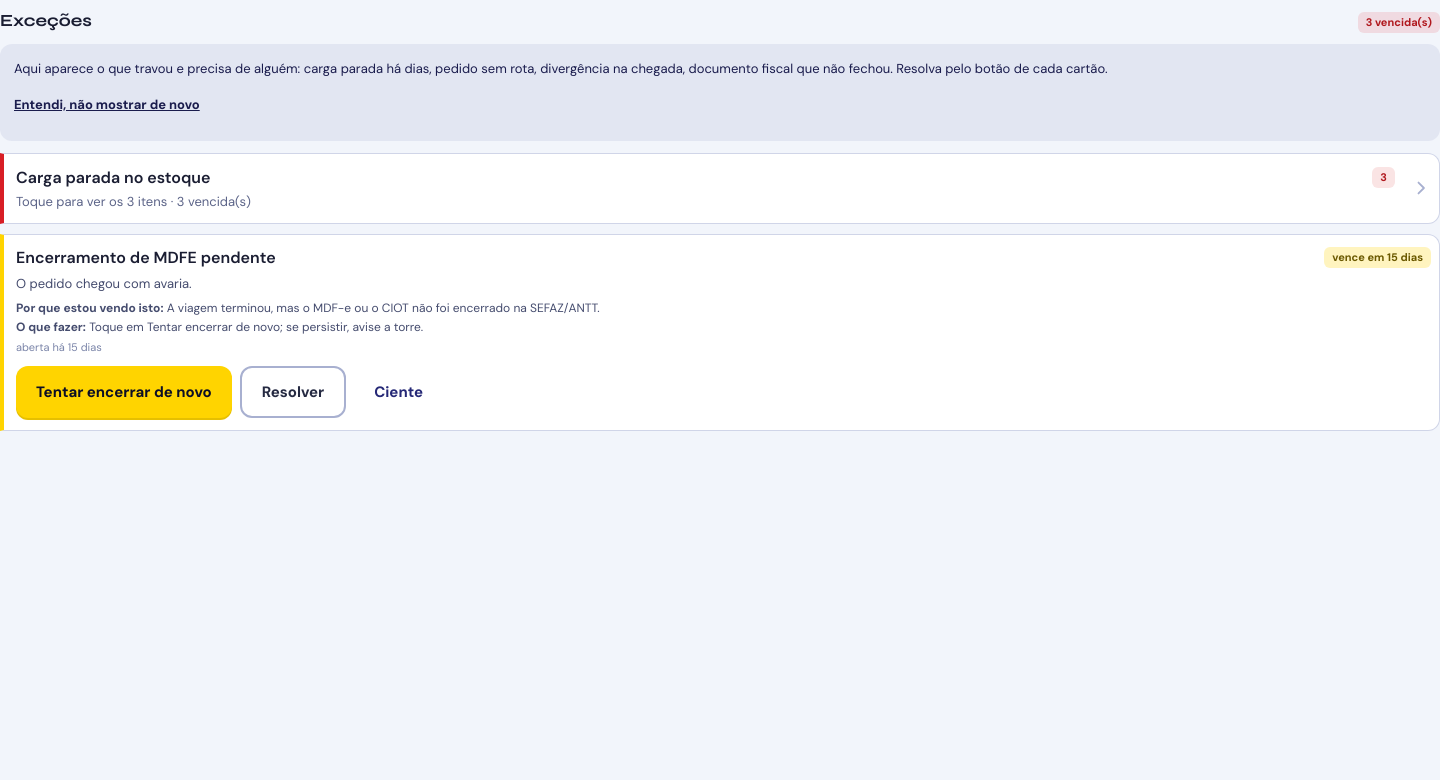
Test: ExceptionsPage › explica a estação (dispensável), diz por que e o que fazer, e agrupa tipos repetidos
Check: the text "Aqui aparece o que travou e precisa de alguém" is shown, box [14,60,1108,76]
Check: the text "Parado 1" is not shown
Click the text "Carga parada no estoque" at coordinates (113, 178), box [16,166,210,190]
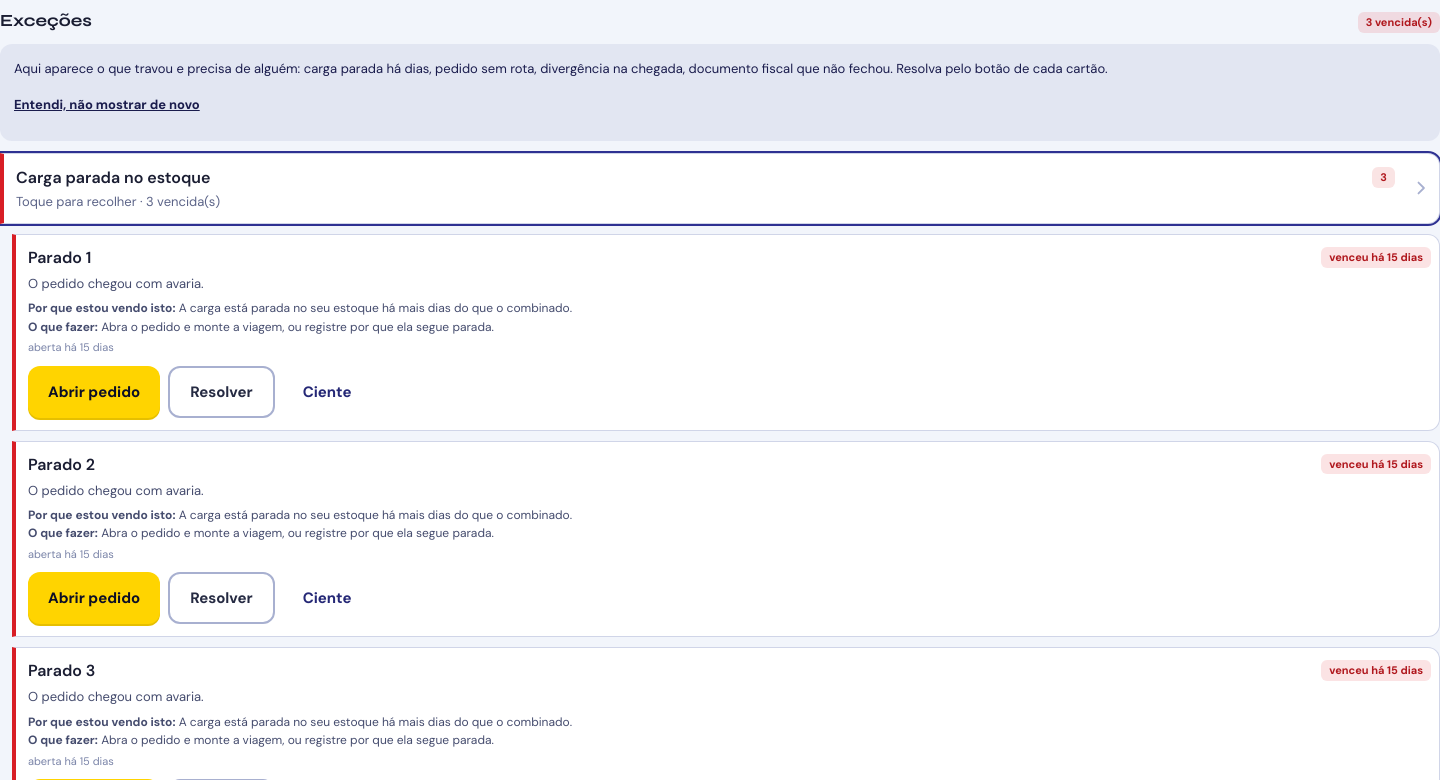
Check: the text "Parado 1" is shown, box [28,247,91,269]
Click the button "Entendi, não mostrar de novo" at coordinates (107, 105), box [14,83,200,127]
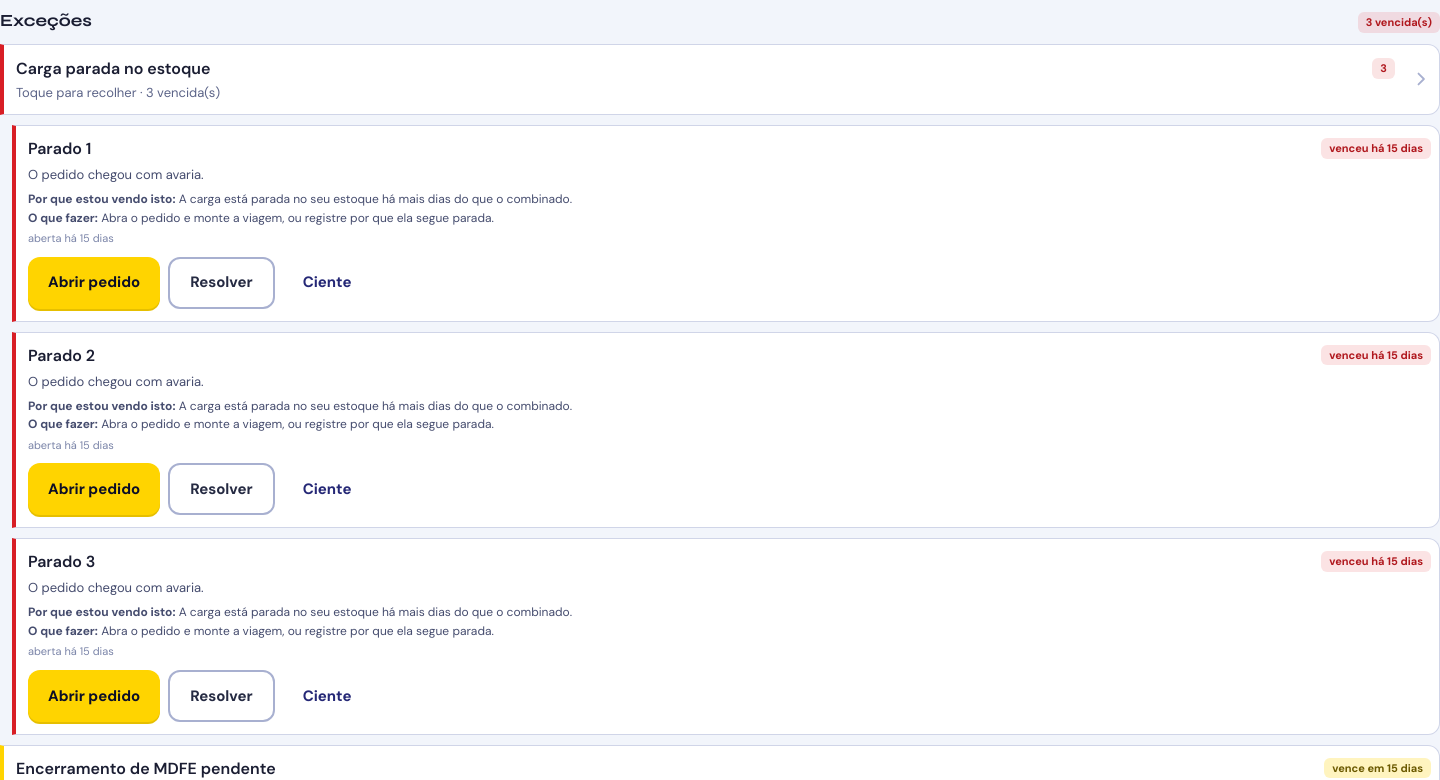
Check: the text "Aqui aparece o que travou" is gone
